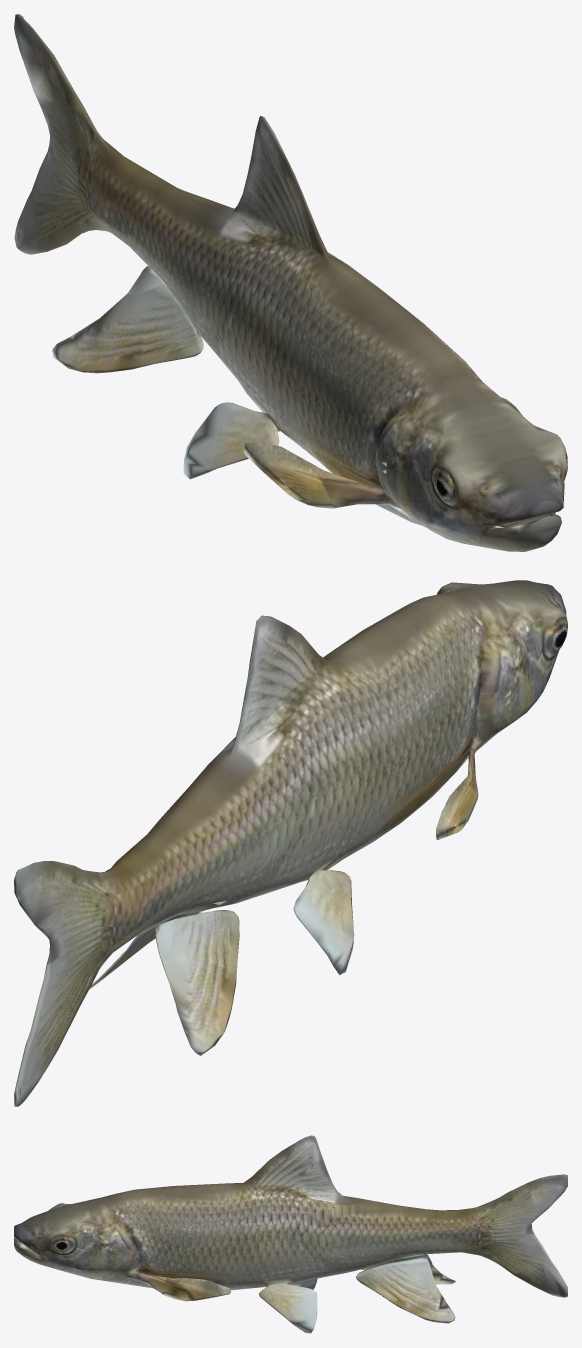
The model's file is zacco.lo.glb.
3 views of the same model, one above another, from view 1: azimuth 30°, elevation 25°; view 2: azimuth 150°, elevation 25°; view 3: azimuth 270°, elevation 25° (orthographic). The views are drawn at different scales.
Parts seen in each view (by area): view 1: zacco_tex; view 2: zacco_tex; view 3: zacco_tex.
Part boxes in pixels (x1=…): zacco_tex: x1=14, y1=14, x2=567, y2=551; zacco_tex: x1=14, y1=580, x2=567, y2=1106; zacco_tex: x1=14, y1=1135, x2=567, y2=1333.
Bounding box in the file's own units: 0.0266 × 0.0442 × 0.125.
Materials: 2 (2 with a texture image).
